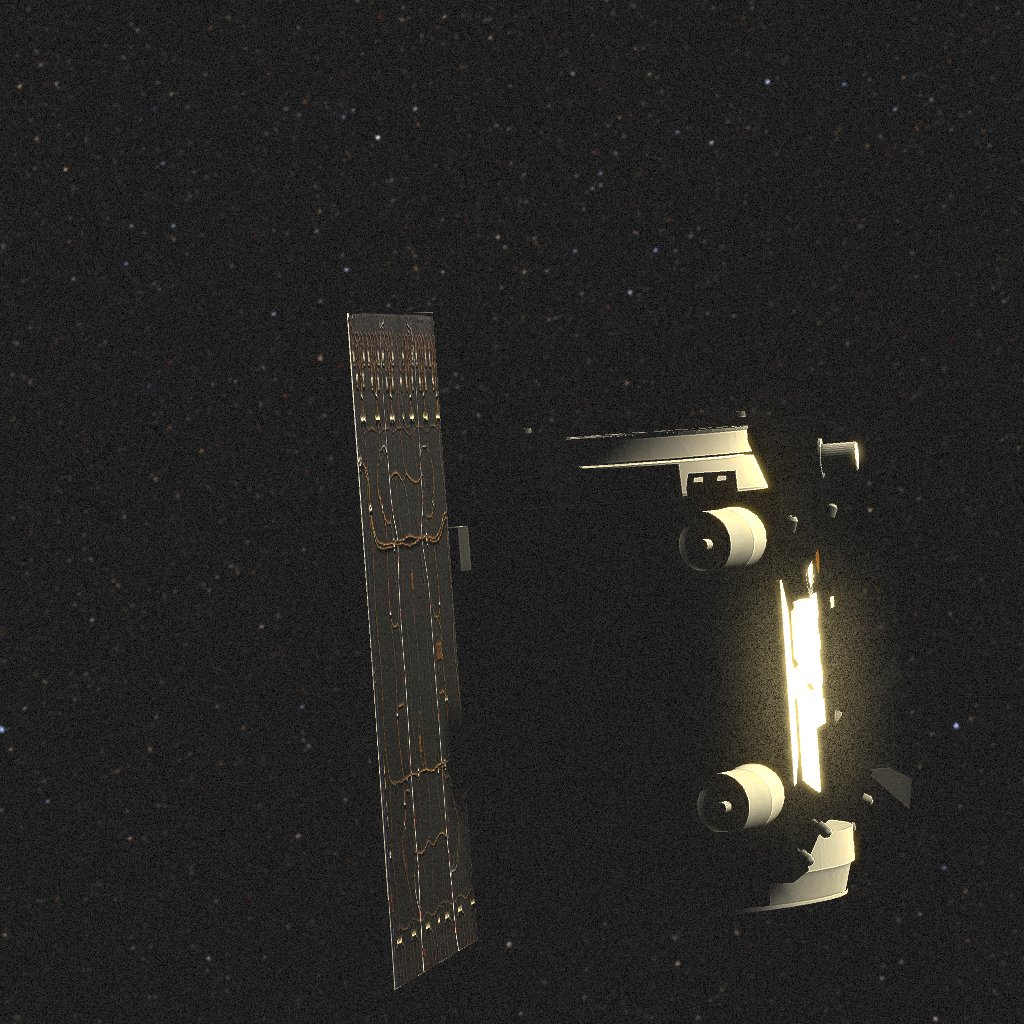proba_3_csc: (339, 313, 912, 990)
